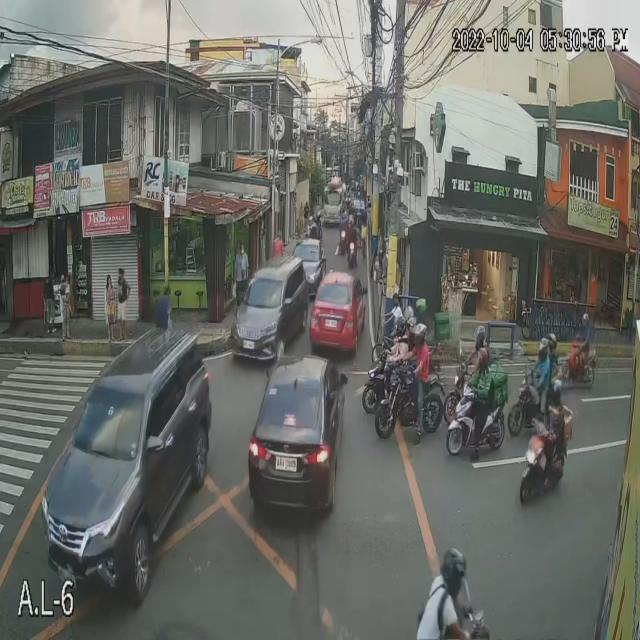full: (440, 546, 467, 596), (411, 320, 427, 351), (472, 326, 487, 348), (536, 336, 548, 361), (394, 313, 406, 337)
half: (548, 380, 565, 410), (475, 350, 490, 372), (547, 330, 559, 353)
